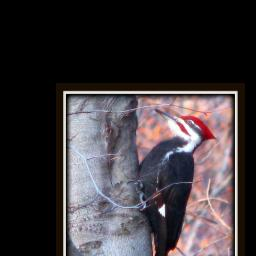Woodpecker: (126, 108, 217, 256)
